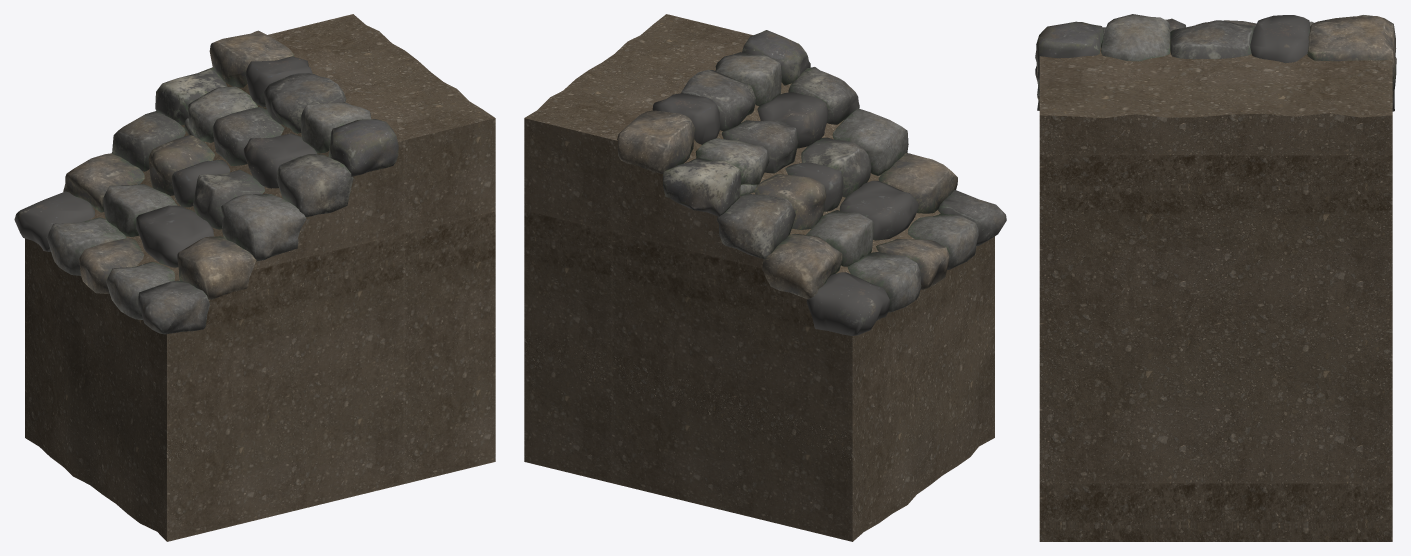
Rendered from SM_Stair01a.fbx.
The picture shows the model from 3 angles, left to right: view 1: azimuth 30°, elevation 25°; view 2: azimuth 150°, elevation 25°; view 3: azimuth 270°, elevation 25°; orthographic projection. The views are drawn at different scales.
Visible parts, largest first — view 1: SM_Stair01a; view 2: SM_Stair01a; view 3: SM_Stair01a.
Part boxes in pixels (x1,y1,x2,y2): SM_Stair01a: (14, 14, 495, 541); SM_Stair01a: (524, 14, 1006, 541); SM_Stair01a: (1035, 14, 1396, 541).
Bounding box in the file's own units: 210 × 154 × 207.
Materials: 2 (2 with a texture image).
